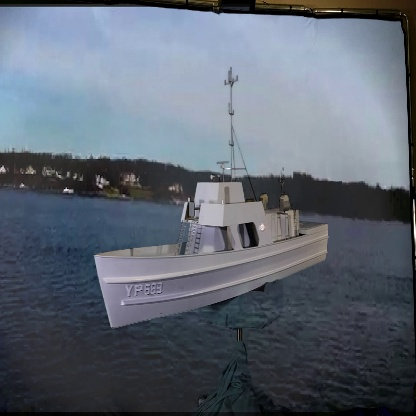YP689: (94, 66, 329, 328)
